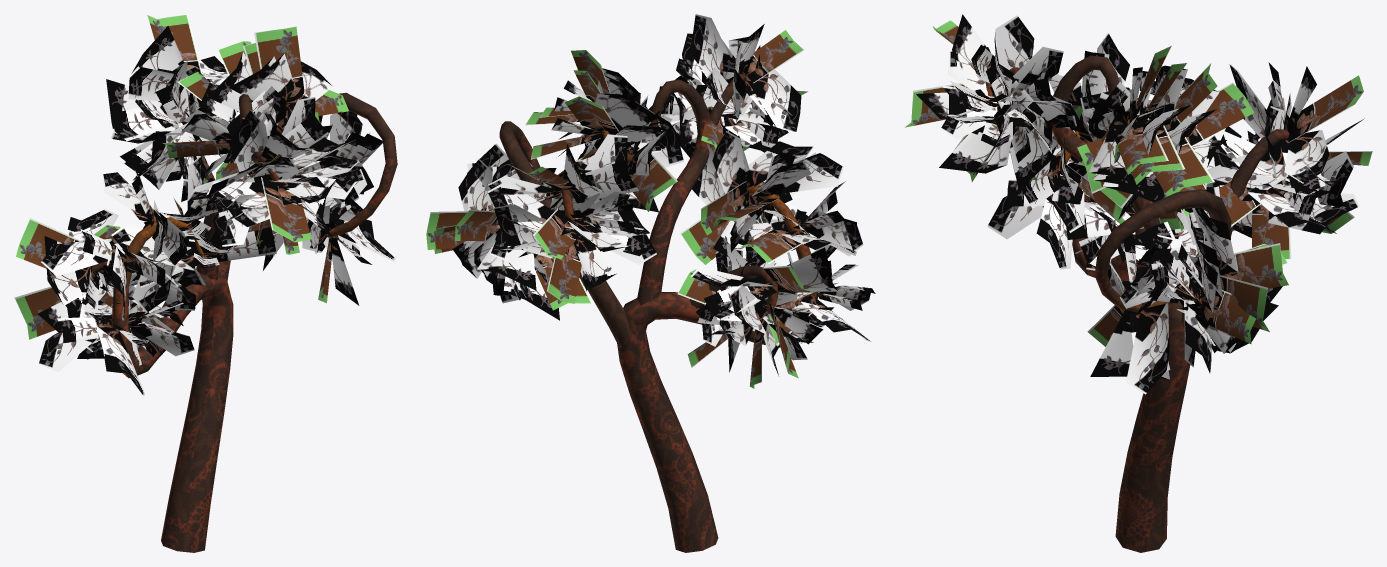
Rendered from Tree_A.dae.
3 renders of one model, left to right at view 1: azimuth 30°, elevation 25°; view 2: azimuth 150°, elevation 25°; view 3: azimuth 270°, elevation 25°, orthographic. The views are drawn at different scales.
Visible parts, largest first — view 1: Leaves, Tree_A; view 2: Leaves, Tree_A; view 3: Leaves, Tree_A.
Boxes of the visible parts, x1,y1,x2,y2 form: Leaves: (14, 14, 395, 395); Tree_A: (89, 92, 397, 552); Leaves: (426, 14, 875, 388); Tree_A: (499, 73, 818, 552); Leaves: (905, 14, 1372, 394); Tree_A: (985, 55, 1289, 552).
Size of what is drawn, in the model's own units: 1453 by 1762 by 1366.
